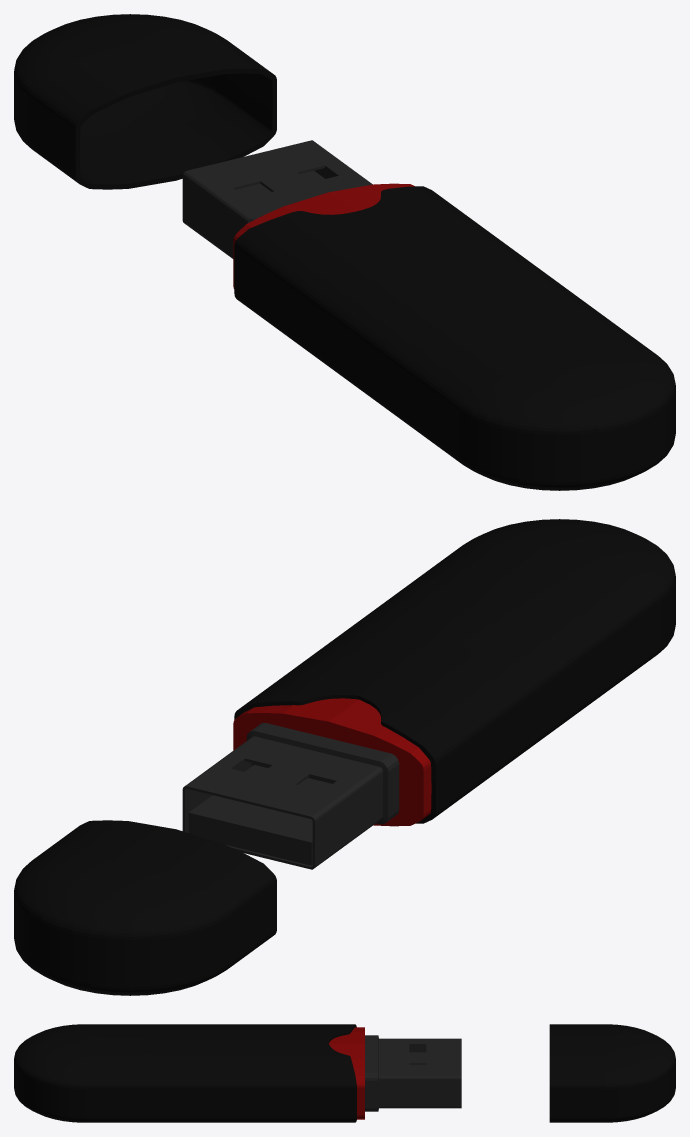
The model's file is usb.FBX.
3 renders of one model, top to bottom at view 1: azimuth 30°, elevation 25°; view 2: azimuth 150°, elevation 25°; view 3: azimuth 270°, elevation 25°, orthographic. The views are drawn at different scales.
Parts seen in each view (by area): view 1: USB, usb top; view 2: USB, usb top; view 3: USB, usb top.
Boxes of the visible parts, x1,y1,x2,y2 form: USB: [182, 140, 675, 490]; usb top: [14, 14, 276, 189]; USB: [182, 519, 675, 869]; usb top: [14, 820, 276, 995]; USB: [14, 1024, 461, 1122]; usb top: [549, 1024, 675, 1122].
Size of the model in its own units: 1.64 by 7.71 by 0.8044.
